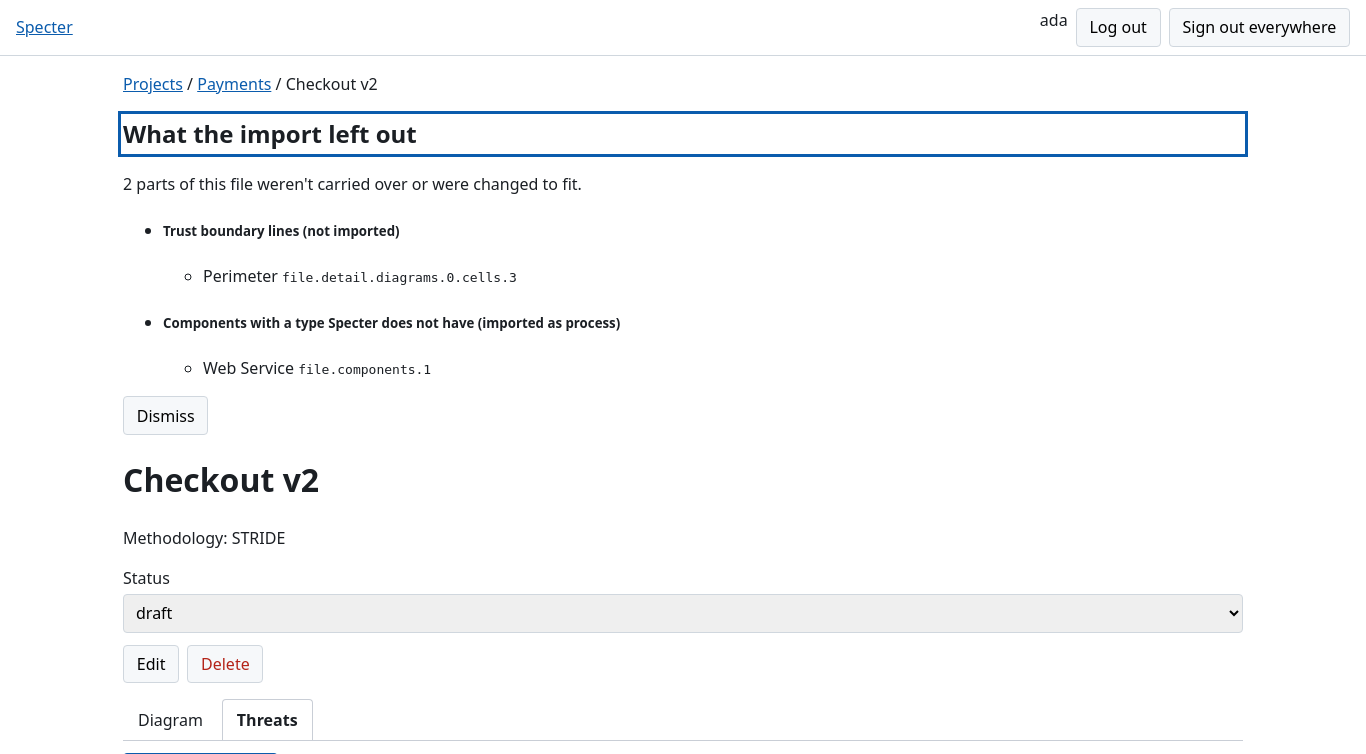
Test case: ThreatModelPage after an import that left something out › closes on Dismiss and leaves the page as it was
Click the button "Dismiss": (166, 416) x1=123 y1=396 x2=208 y2=435
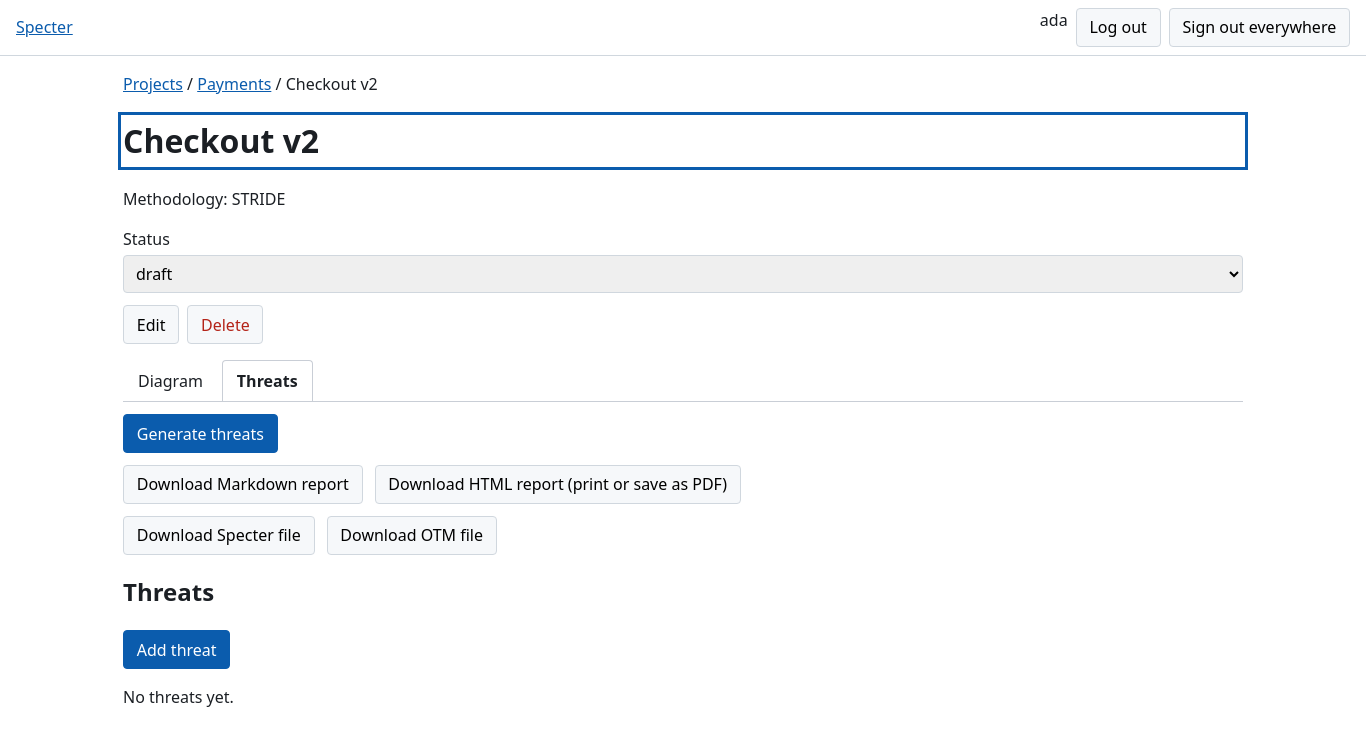
Expected: the heading "Checkout v2" is shown, x1=123 y1=119 x2=319 y2=162
Expected: the heading "What the import left out" is gone
